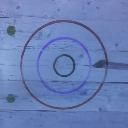Axe Tip: (92, 65, 104, 67)
